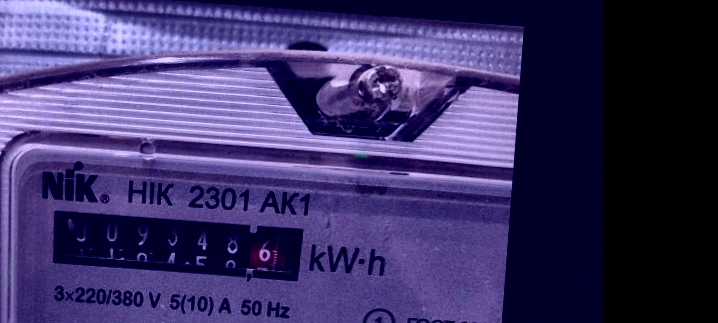0: (103, 218, 120, 242), (73, 216, 88, 243)
3: (164, 222, 180, 249)
4: (194, 224, 210, 252)
6: (255, 236, 274, 264)
8: (223, 227, 240, 256)
9: (133, 220, 150, 247)
screen: (40, 202, 313, 290)
